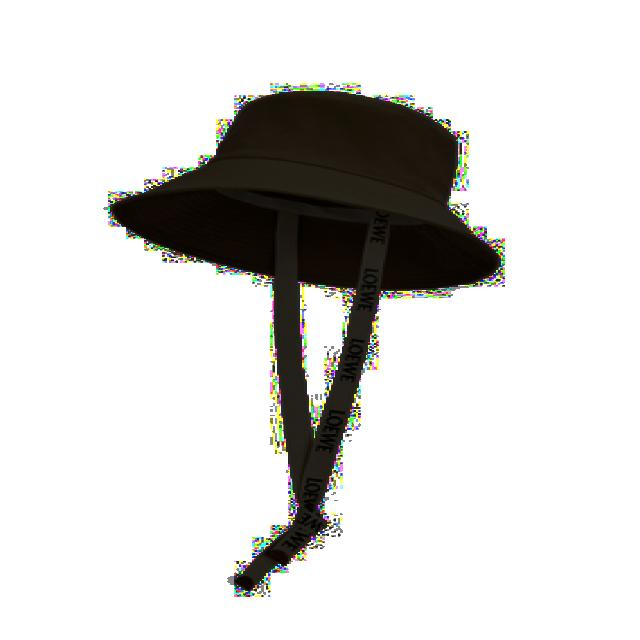TOPI: (88, 85, 507, 306)
